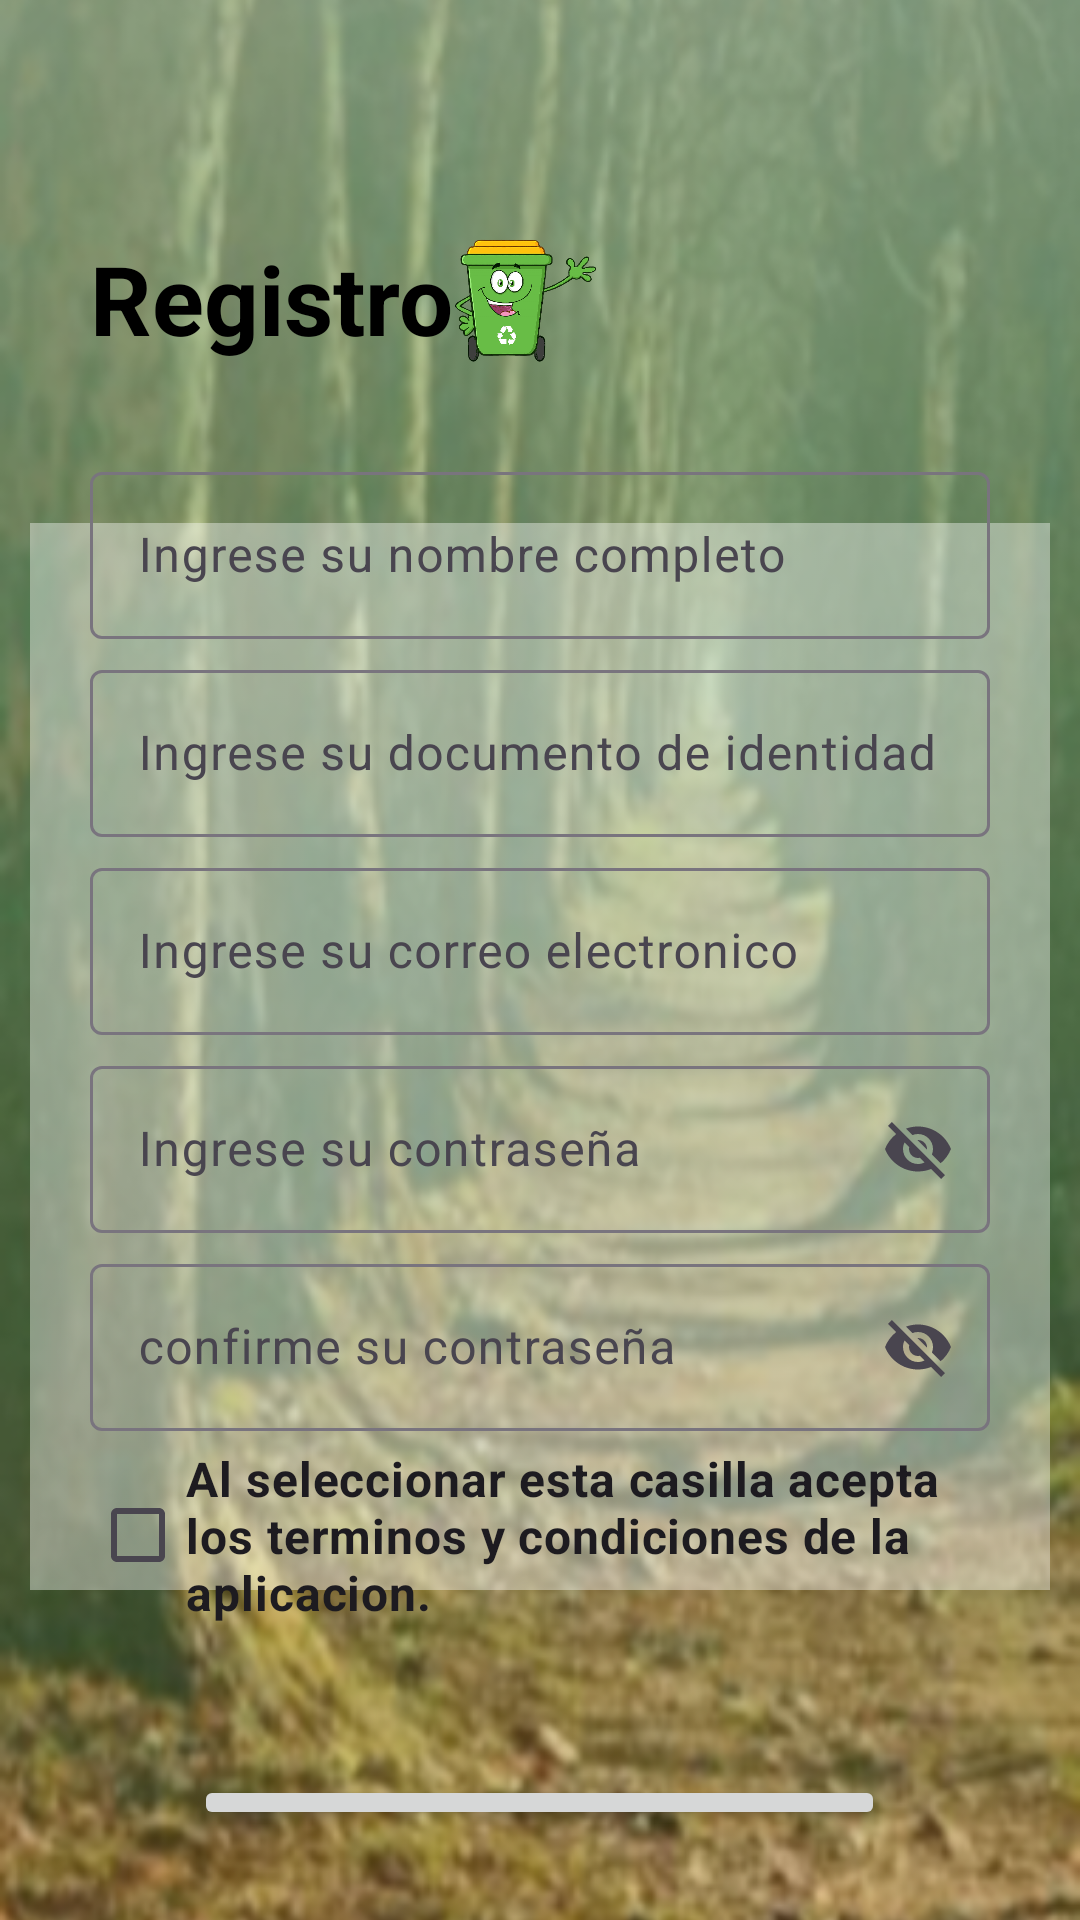

Where to tap for icons on this 1080px×1920px app screen, as (x,y):
basura: (526,300)
